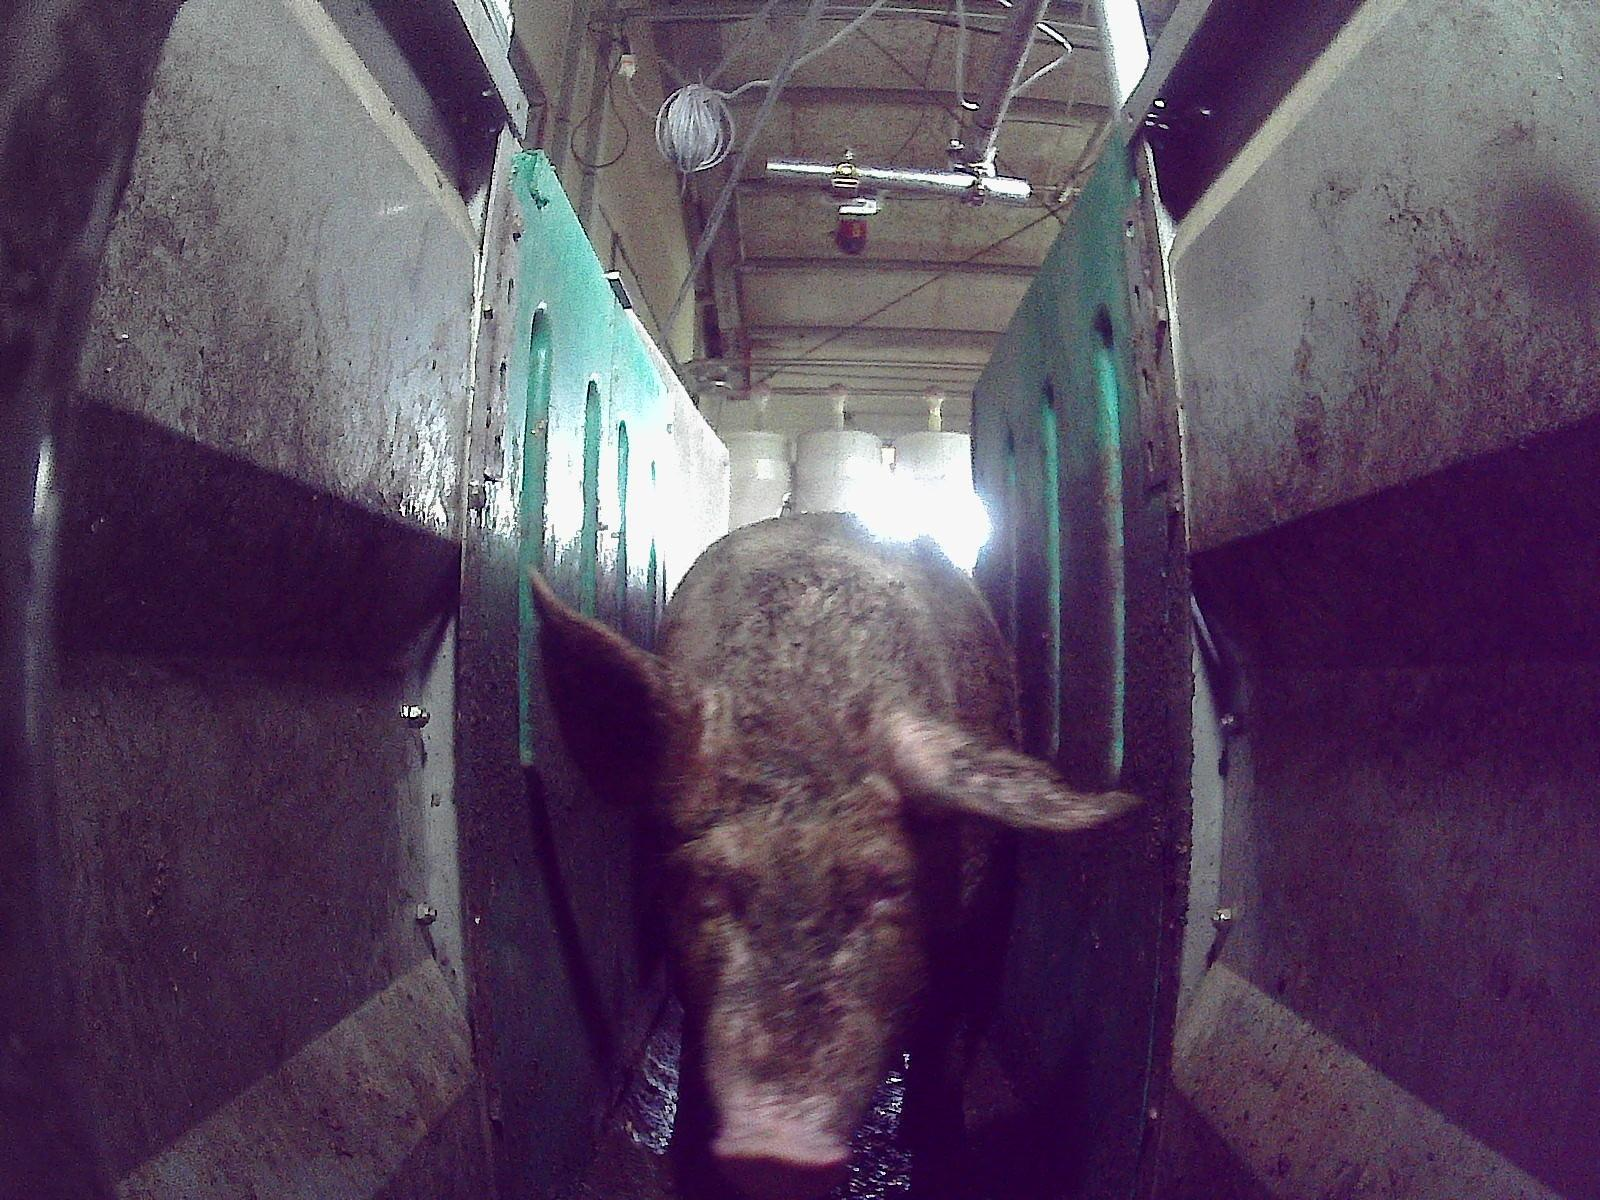Face: (653, 707, 959, 1197)
